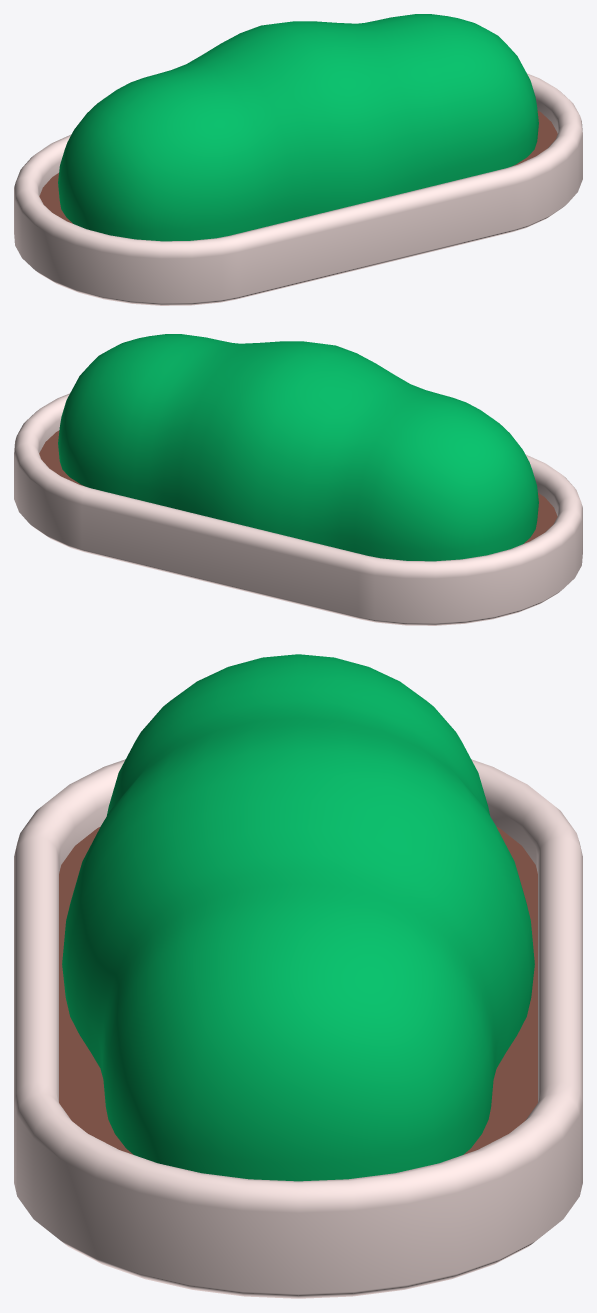
The model's file is City_11_Bush_1.glb.
3 views of the same model, one above another, from view 1: azimuth 30°, elevation 25°; view 2: azimuth 150°, elevation 25°; view 3: azimuth 270°, elevation 25° (orthographic). The views are drawn at different scales.
Visible parts, largest first — view 1: City_11_Bush_1; view 2: City_11_Bush_1; view 3: City_11_Bush_1.
Part boxes in pixels (x1,y1,x2,y2): City_11_Bush_1: [14, 14, 582, 305]; City_11_Bush_1: [14, 334, 582, 625]; City_11_Bush_1: [14, 654, 582, 1298].
Bounding box in the file's own units: 2.06 × 0.6548 × 1.06.
1 material, 1 textured.
